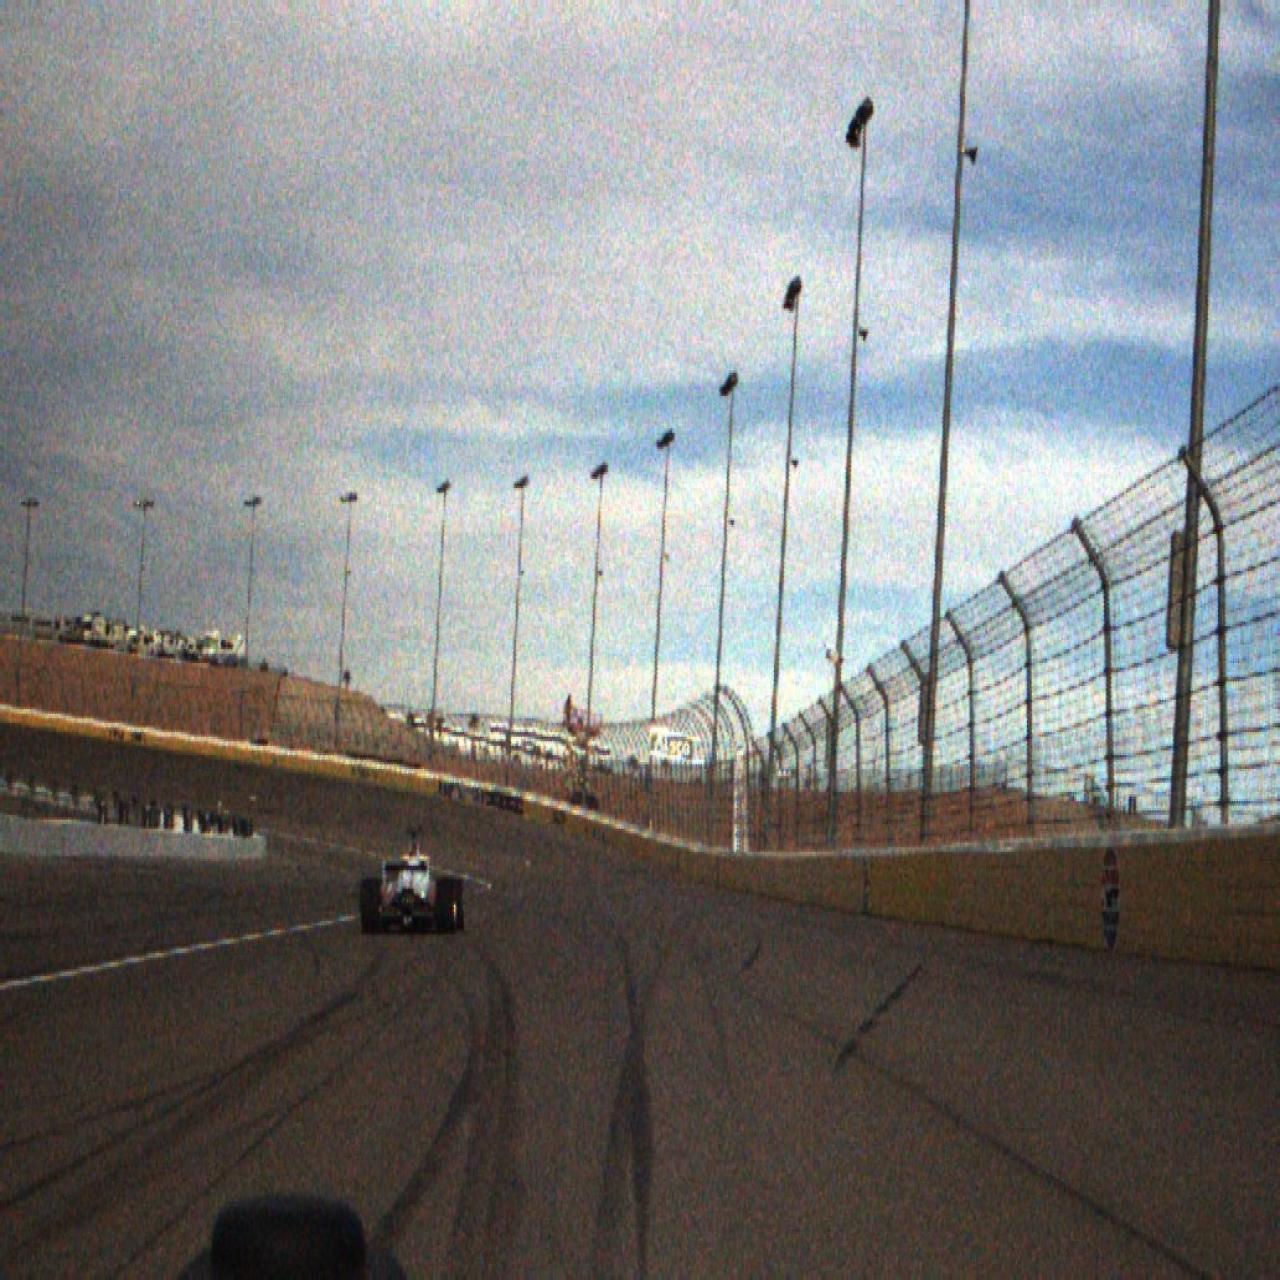AV: (360, 828, 465, 937)
Wheel: (360, 878, 381, 937), (436, 877, 456, 937)
